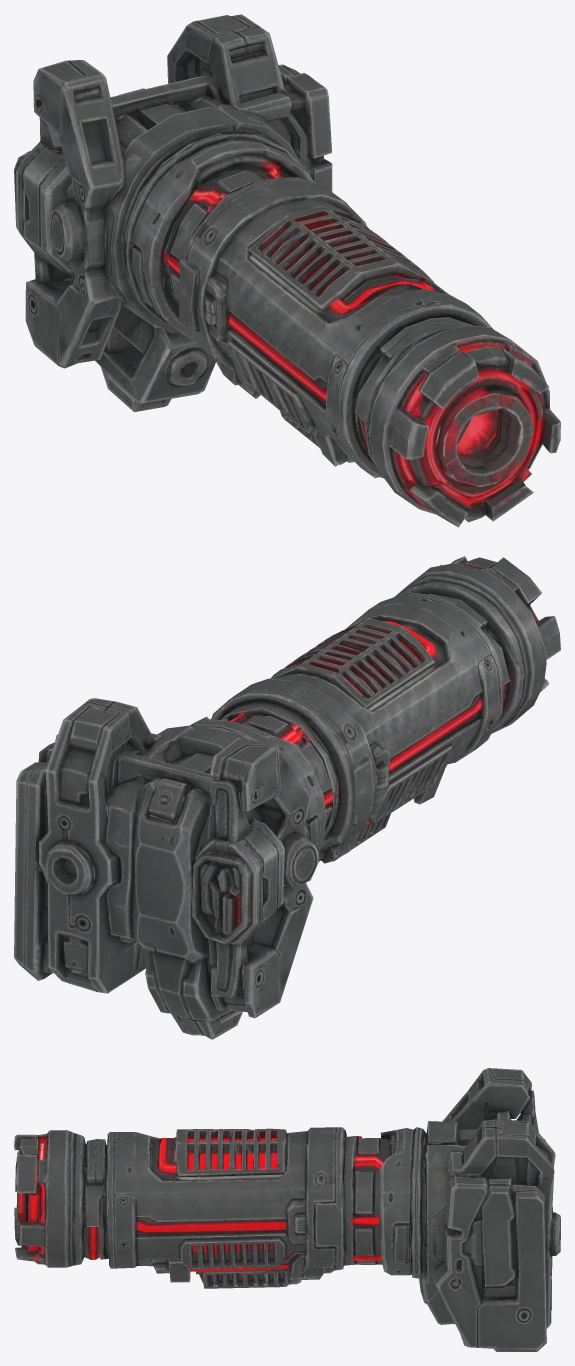
The model's file is laser-pulse.glb.
3 views of the same model, one above another, from view 1: azimuth 30°, elevation 25°; view 2: azimuth 150°, elevation 25°; view 3: azimuth 270°, elevation 25° (orthographic). The views are drawn at different scales.
Parts seen in each view (by area): view 1: laser-pulse; view 2: laser-pulse; view 3: laser-pulse.
Part boxes in pixels (x1,y1,x2,y2): laser-pulse: [14, 14, 560, 527]; laser-pulse: [14, 556, 560, 1039]; laser-pulse: [14, 1068, 560, 1351].
Bounding box in the file's own units: 4.22 × 5.06 × 10.4.
Materials: 1 (1 with a texture image).
